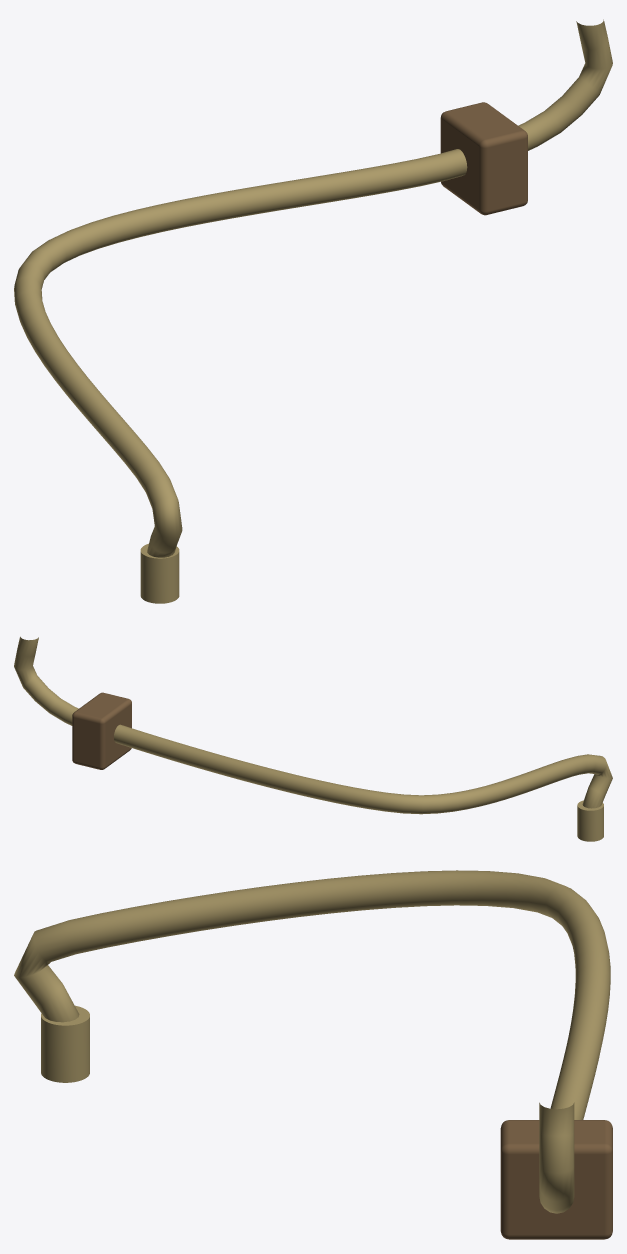
File: water-clock-garden-and-hydraulic-puzzles-calibrated-dr-aaac5e08__31927.glb
3 views of the same model, one above another, from view 1: azimuth 30°, elevation 25°; view 2: azimuth 150°, elevation 25°; view 3: azimuth 270°, elevation 25° (orthographic). The views are drawn at different scales.
Visible parts, largest first — view 1: calibrated-drip-nozzle; view 2: calibrated-drip-nozzle; view 3: calibrated-drip-nozzle.
Part boxes in pixels (bbox=[...]): calibrated-drip-nozzle: bbox=[14, 19, 612, 603]; calibrated-drip-nozzle: bbox=[14, 636, 612, 841]; calibrated-drip-nozzle: bbox=[14, 870, 612, 1239].
Size of the model in its own units: 1.38 by 0.5601 by 0.8534.
